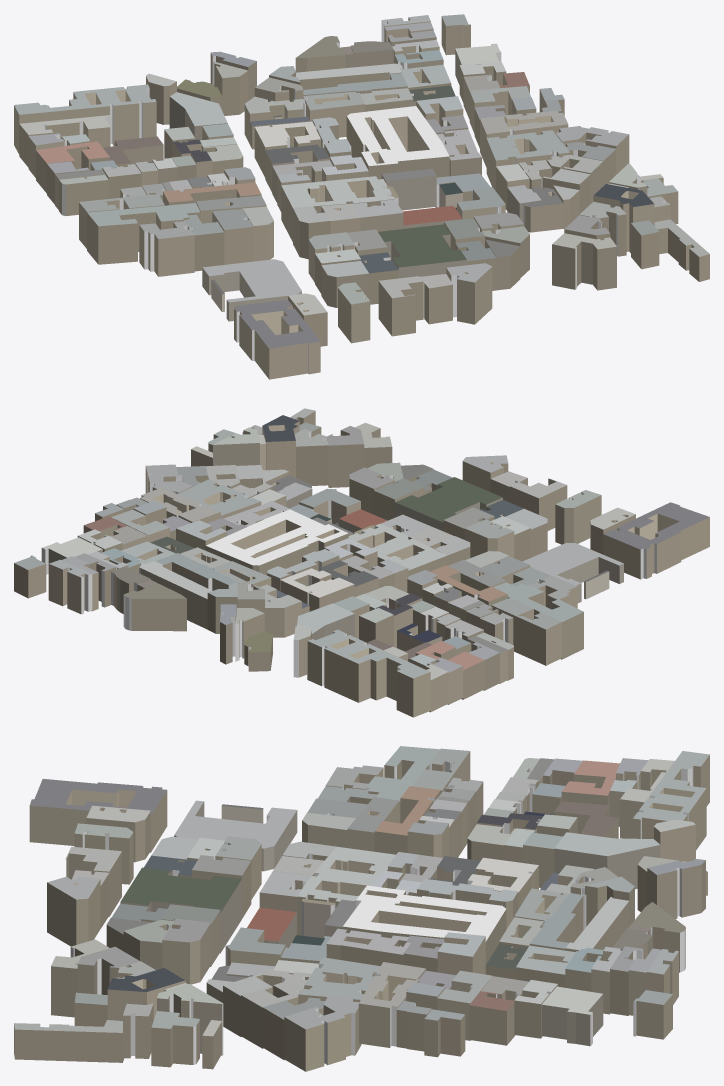
3 views of the same model, one above another, from view 1: azimuth 30°, elevation 25°; view 2: azimuth 150°, elevation 25°; view 3: azimuth 270°, elevation 25° (orthographic). The views are drawn at different scales.
Visible parts, largest first — view 1: tuile; view 2: tuile; view 3: tuile.
Part boxes in pixels (box(x1,y1,x2,y2)): tuile: box(14, 14, 709, 379); tuile: box(14, 408, 709, 717); tuile: box(14, 746, 709, 1071).
Size of the model in its own units: 278 by 38.51 by 286.
